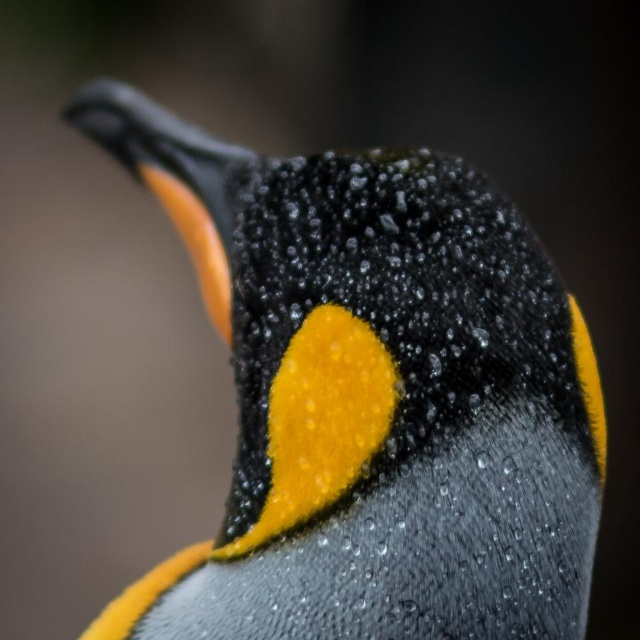Penguin: (61, 75, 604, 639)
